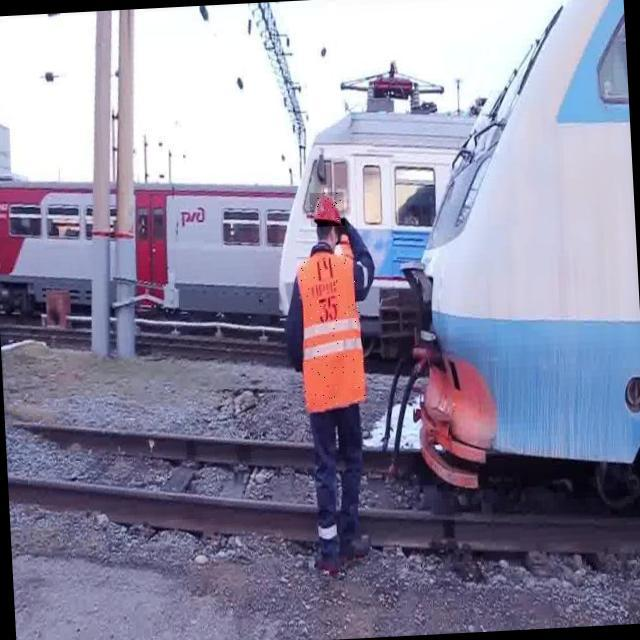Gloves: (333, 204, 360, 247)
Helmet: (309, 192, 345, 228)
Person: (258, 163, 409, 590)
Safety Boot: (310, 514, 380, 581)
Safety Vest: (295, 248, 368, 415)
